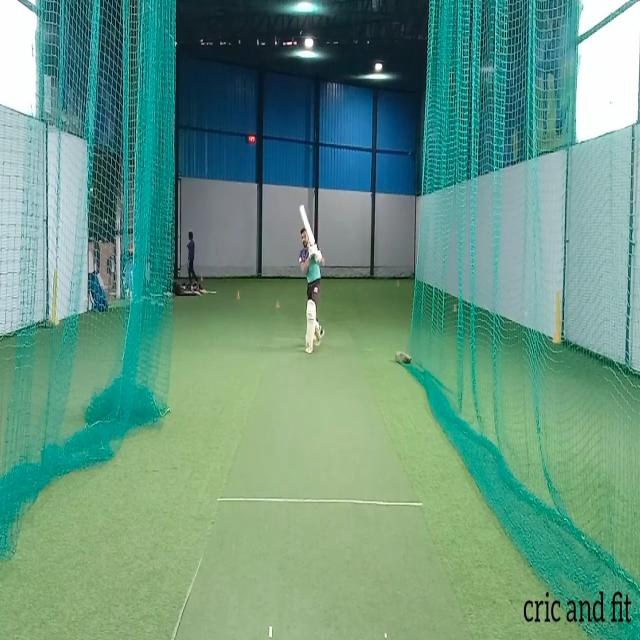batsman: (297, 204, 327, 354)
